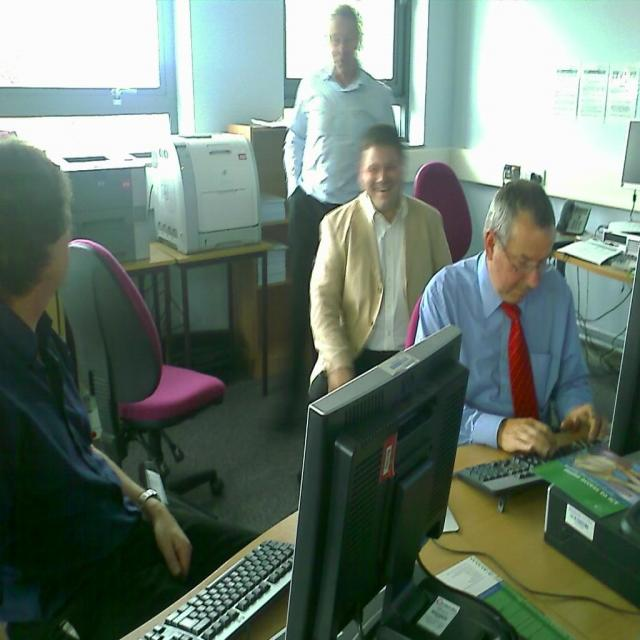chair: (60, 238, 226, 502), (413, 160, 472, 263)
desk: (59, 281, 575, 640)
keyboard: (139, 534, 297, 640), (456, 453, 544, 495)
person: (0, 131, 194, 629), (414, 178, 603, 462), (282, 0, 397, 426), (307, 125, 454, 405)
tv: (284, 325, 469, 640), (0, 0, 178, 131)
